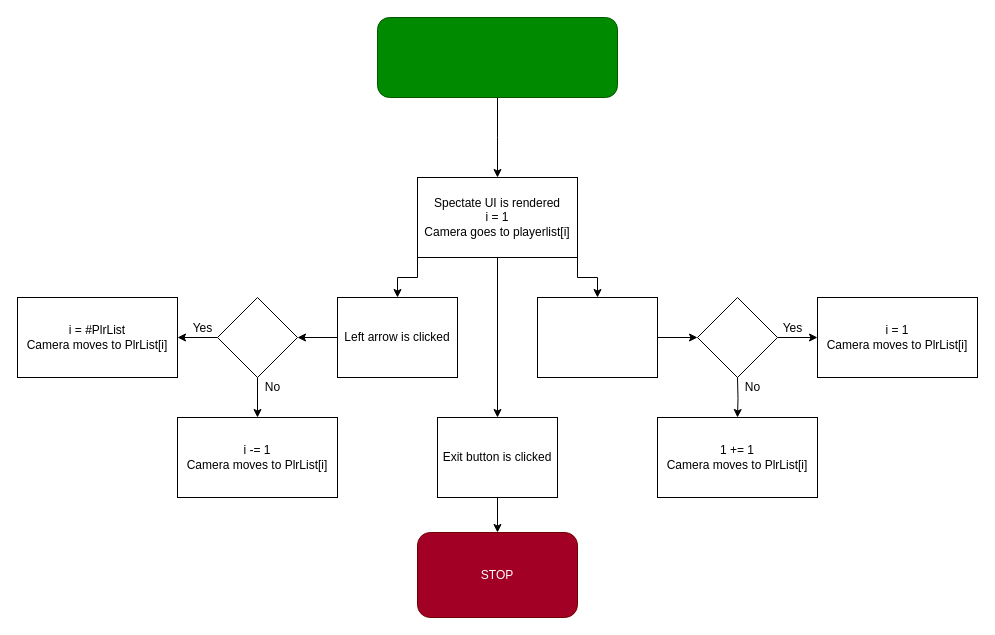
Image size: 995x635. Some labels were removed from this diagram. The shapes that lost their labels are listed below. From the top down, each one's centre as x and y in pixels, then its label:
At pixel 497 57: "START".
At pixel 257 337: "Is (i -1) < 1?".
At pixel 597 337: "Right arrow is clicked".
At pixel 737 337: "Is (i + 1) > #PlrList?".
